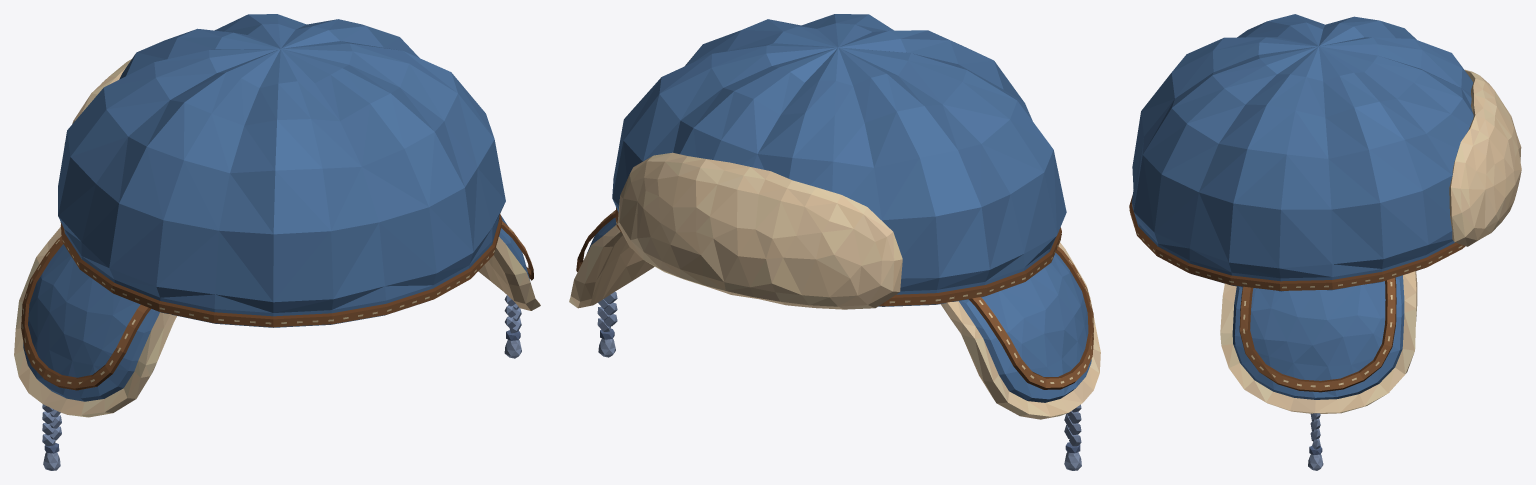
The model's file is Cosmetic_Trapper_Hat.glb.
3 renders of one model, left to right at view 1: azimuth 30°, elevation 25°; view 2: azimuth 150°, elevation 25°; view 3: azimuth 270°, elevation 25°, orthographic. The views are drawn at different scales.
Visible parts, largest first — view 1: Trapper Hat; view 2: Trapper Hat; view 3: Trapper Hat.
Part boxes in pixels (<box>): Trapper Hat: <box>14,14,540,470</box>; Trapper Hat: <box>569,14,1100,470</box>; Trapper Hat: <box>1129,14,1521,470</box>.
Bounding box in the file's own units: 1.47 × 1.07 × 1.17.
